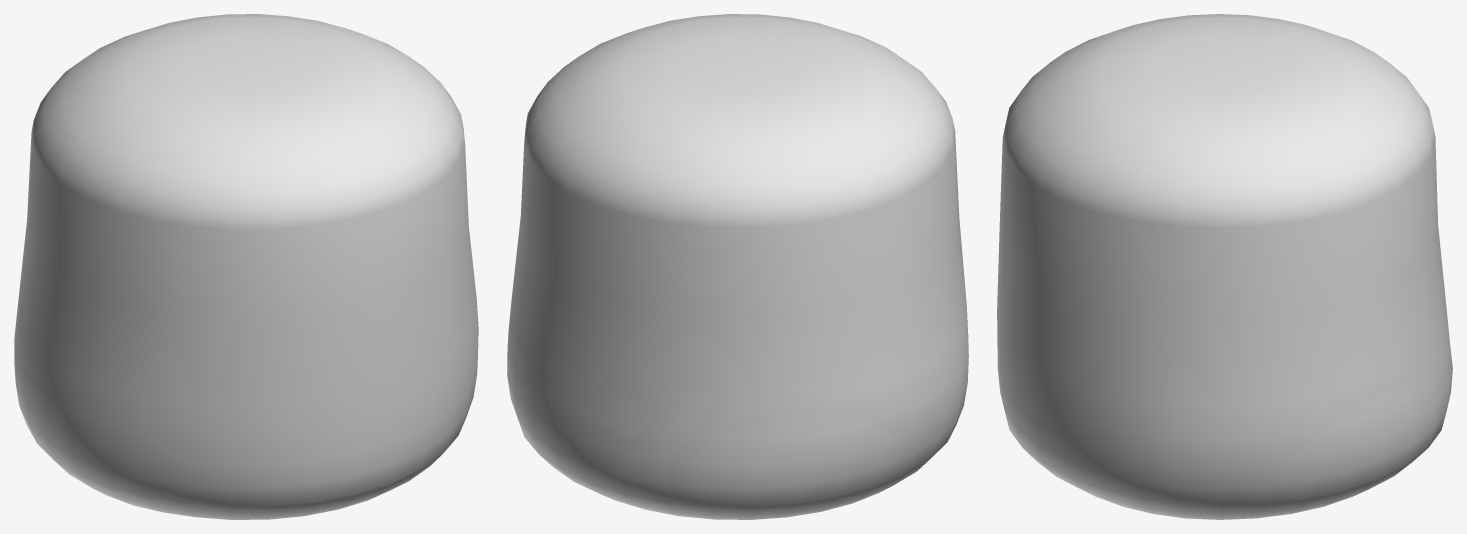
File: 15-Focused-Chibi-Black-Customizable-face.glb
3 renders of one model, left to right at view 1: azimuth 30°, elevation 25°; view 2: azimuth 150°, elevation 25°; view 3: azimuth 270°, elevation 25°, orthographic.
Visible parts, largest first — view 1: 15-Focused-Chibi-Black-Customizable-face; view 2: 15-Focused-Chibi-Black-Customizable-face; view 3: 15-Focused-Chibi-Black-Customizable-face.
Part boxes in pixels (x1,y1,x2,y2): 15-Focused-Chibi-Black-Customizable-face: [14, 14, 478, 519]; 15-Focused-Chibi-Black-Customizable-face: [507, 14, 968, 519]; 15-Focused-Chibi-Black-Customizable-face: [997, 14, 1452, 519].
Size of the model in its own units: 1.23 by 1.18 by 1.2.
1 material, 1 textured.
